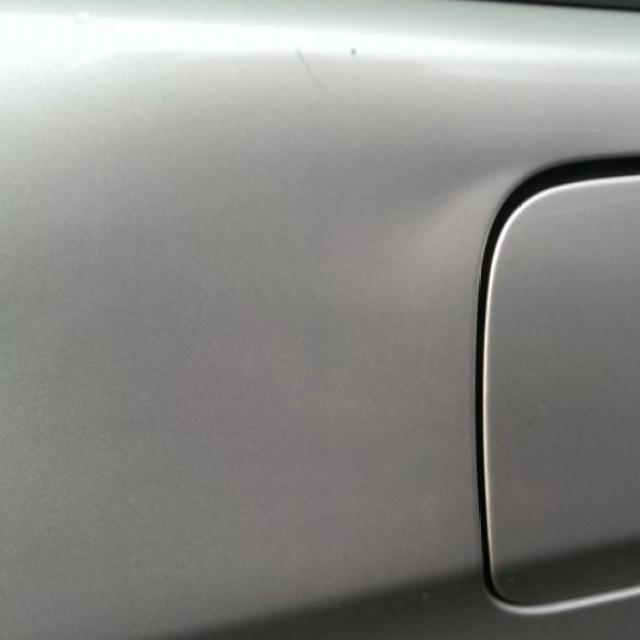dents: (405, 149, 546, 247)
